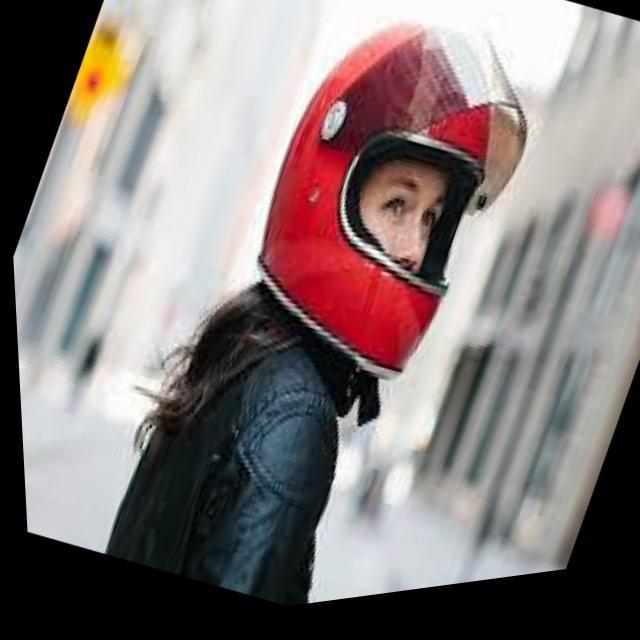Helmet: (246, 0, 540, 400)
